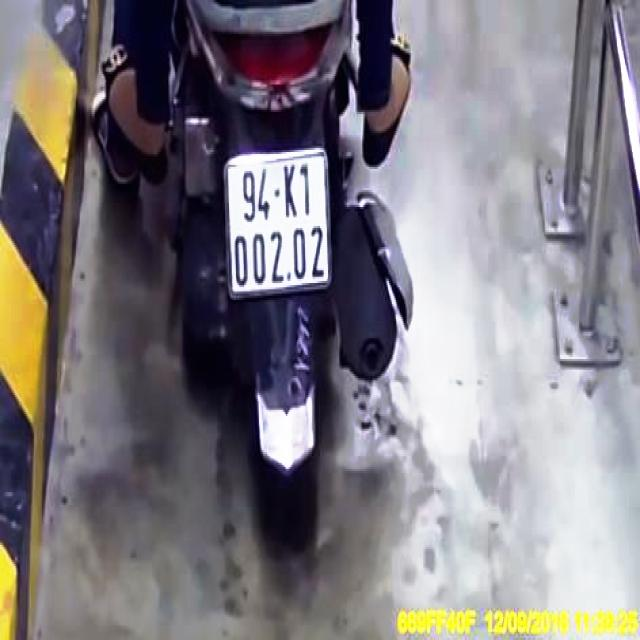license_plate: (226, 157, 330, 294)
